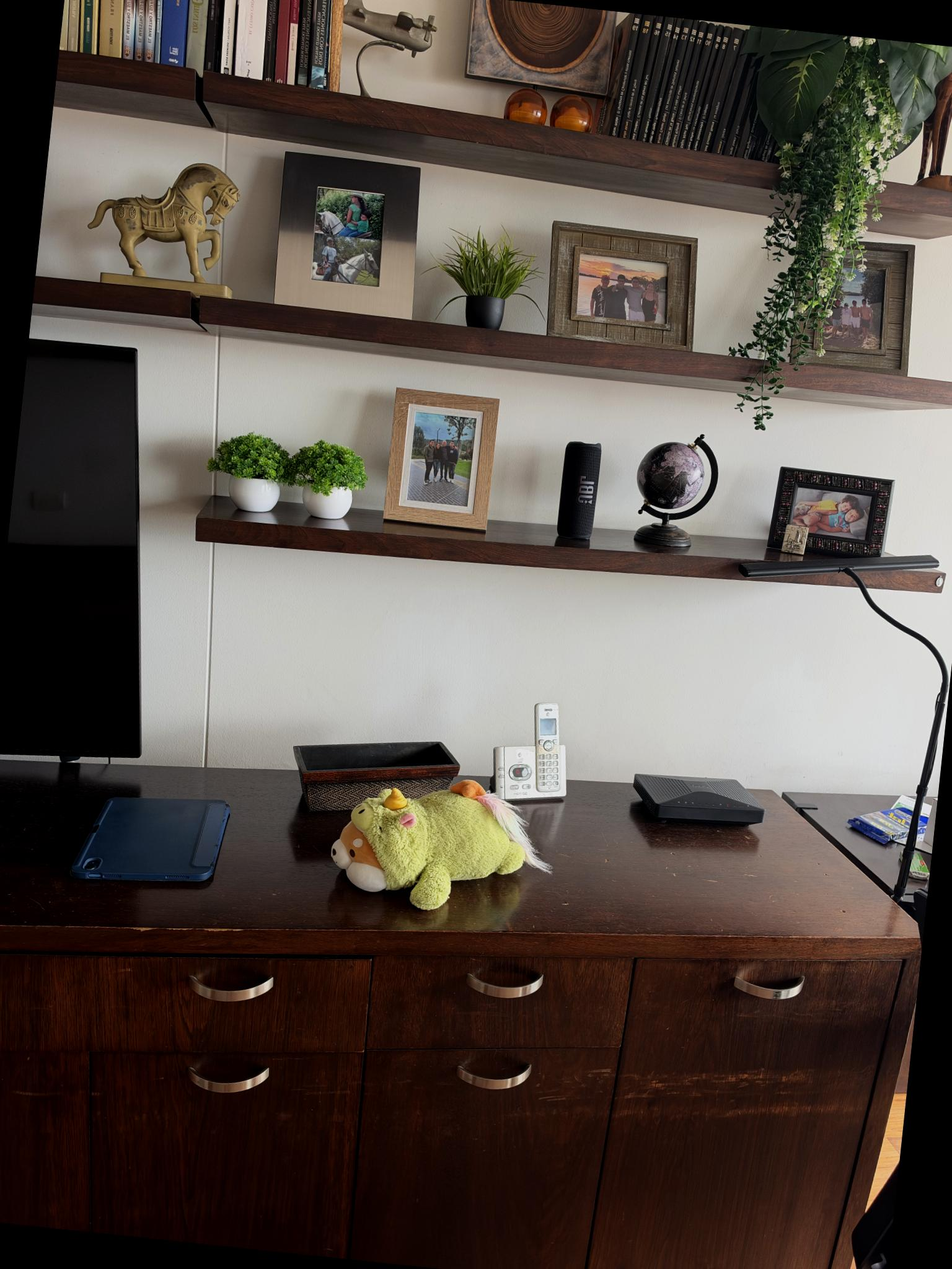peluche_martin: (325, 765, 561, 923)
